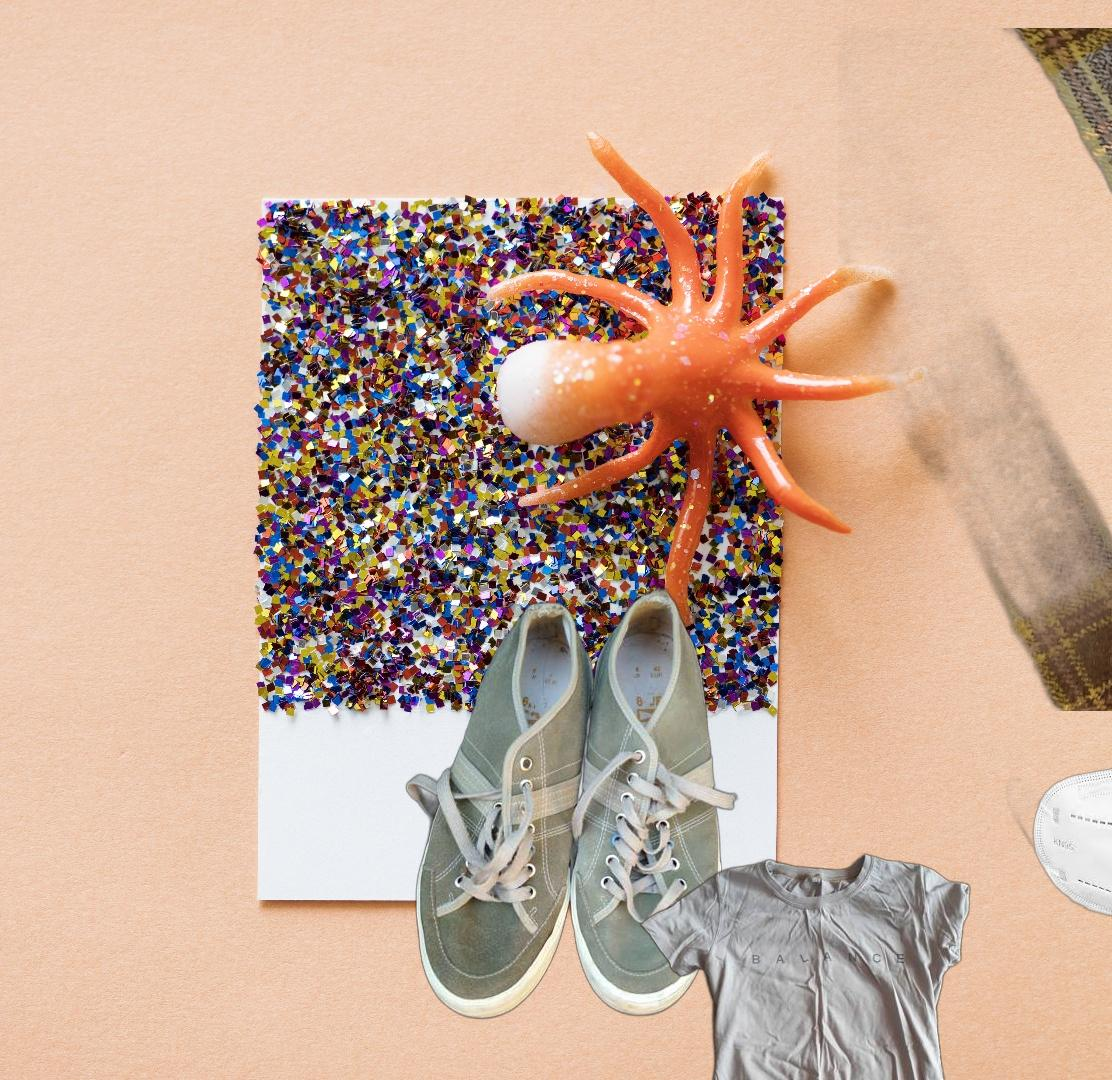clothes: (638, 851, 973, 1080)
metal-cans: (838, 28, 1112, 711)
shoes: (404, 583, 740, 1024)
trash: (1003, 744, 1112, 919)
